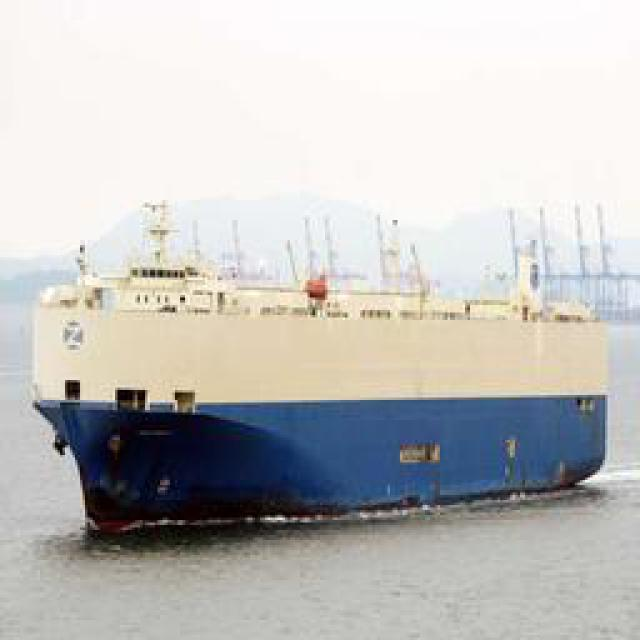Ship: (31, 230, 611, 525)
